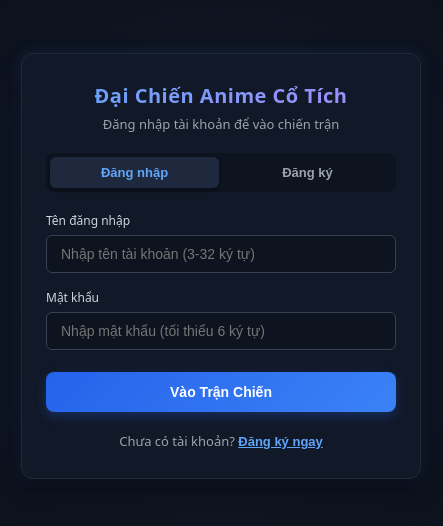
Test: AuthScreen (authentication error mapping) › maps INVALID_CREDENTIALS from the login endpoint to its message
In the field with test id "input-username": {"x": 221, "y": 254} [46, 235, 396, 273], type "playerone"
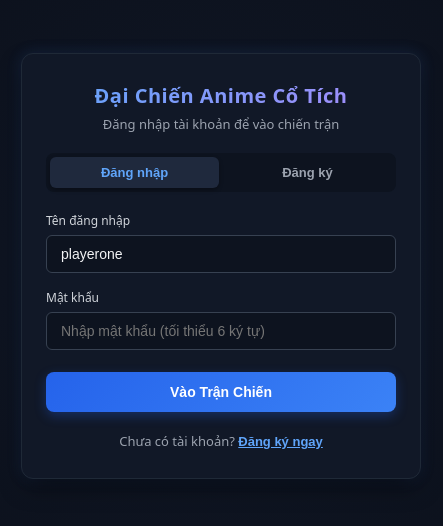
In the password field with test id "input-password": {"x": 221, "y": 331} [46, 312, 396, 350], type "secret123"
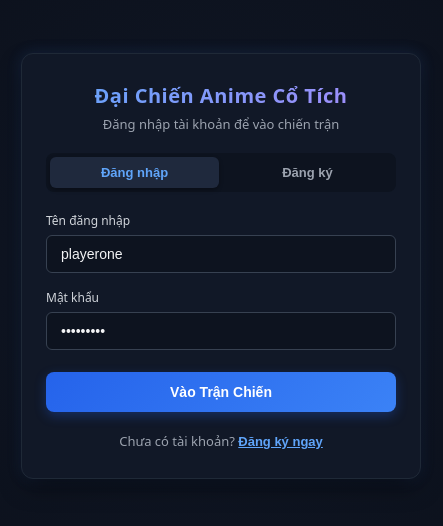
Click the button with test id "button-submit": {"x": 221, "y": 392} [46, 372, 396, 412]
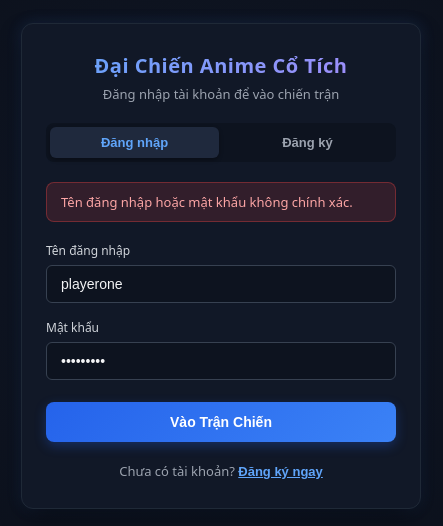
Now the message with test id "auth-error-banner" reads "Tên đăng nhập hoặc mật khẩu không chính xác.", box [61, 193, 353, 211]
